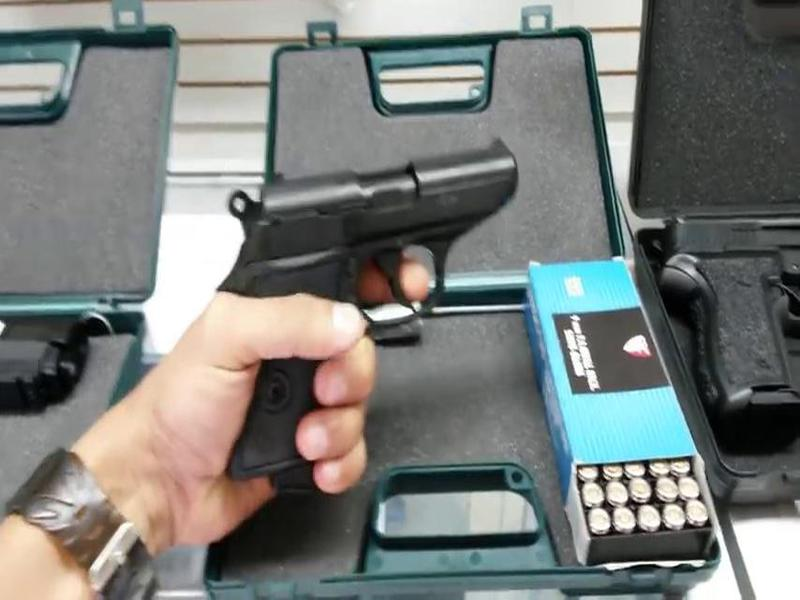Pistola: (217, 123, 537, 486)
